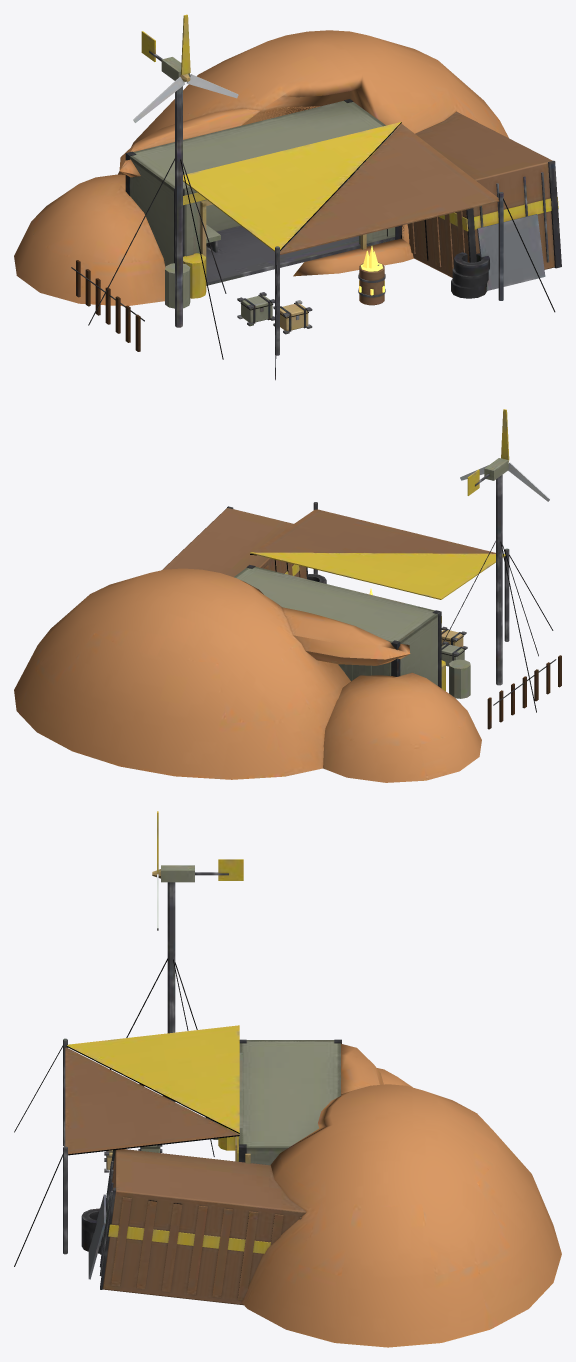
File: camp.glb
3 renders of one model, top to bottom at view 1: azimuth 30°, elevation 25°; view 2: azimuth 150°, elevation 25°; view 3: azimuth 270°, elevation 25°, orthographic. The views are drawn at different scales.
Parts seen in each view (by area): view 1: hull, spin.z.-90.0; view 2: hull, spin.z.-90.0; view 3: hull.
Boxes of the visible parts, box(x1,y1,x2,y2) form: hull: box(14, 30, 561, 380); spin.z.-90.0: box(133, 14, 238, 122); hull: box(14, 458, 561, 782); spin.z.-90.0: box(460, 409, 549, 501); hull: box(14, 859, 561, 1347).
Bounding box in the file's own units: 13.62 × 8.81 × 12.9.
12 materials, 10 textured.
